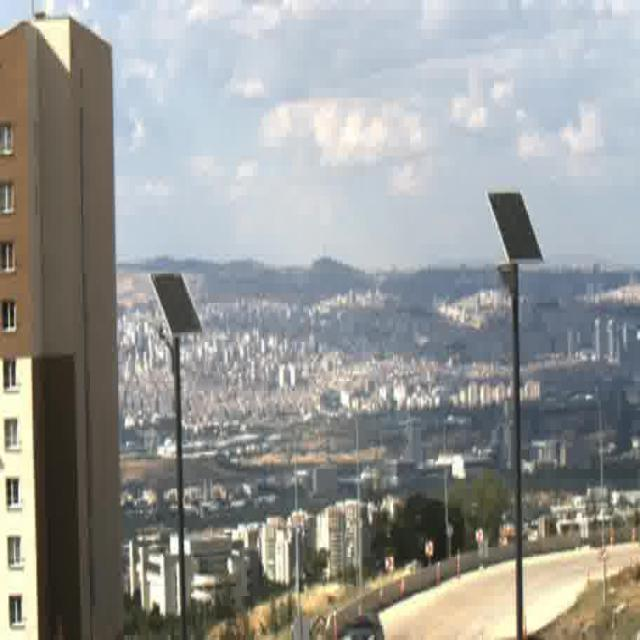Car: (345, 612, 382, 640)
